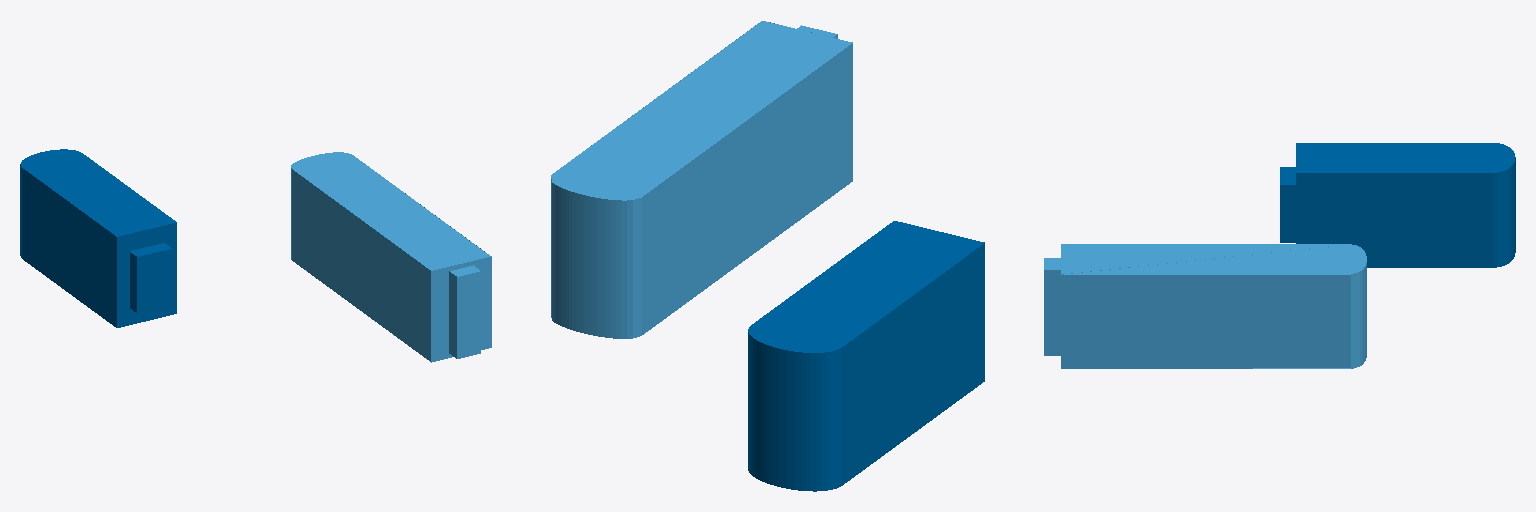
URDF robot description (2v2_65.35_50.50_1.1_73):
<?xml version="1.0" ?>
<robot name="2v2_65.35_50.50_1.1_73">

    <link name="palm">
        <visual>
            <origin rpy="0 0 0" xyz="0 0 0"/>
            <geometry>
                <mesh filename="obj_files/palm.obj" scale="1 1 1"/>
            </geometry>
        </visual>
        <collision>
            <geometry>
                <mesh filename="obj_files/palm_collision.obj" scale="1 1 1"/>
            </geometry>
        </collision>
    </link>

    <link name="finger0_segment0">
        <visual>
            <origin rpy="0 0 0" xyz="0 0 0"/>
            <geometry>
                <mesh filename="obj_files/finger0_segment0.obj" scale="1 1 1"/>
            </geometry>
        </visual>
        <collision>
            <geometry>
                <mesh filename="obj_files/finger0_segment0_collision.obj" scale="1 1 1"/>
            </geometry>
        </collision>
    </link>

    <joint name="finger0_segment0_joint" type="revolute">
        <parent link="palm"/>
        <child link="finger0_segment0"/>
        <origin rpy="0 0 0" xyz="0.03675 0 0.0"/>
        <axis xyz="0 0 1"/>
        <limit effort="1000.0" lower="-3.14" upper="3.14" velocity="0.5"/>
    </joint>

    <link name="finger0_segment1">
        <visual>
            <origin rpy="0 0 0" xyz="0 0 0"/>
            <geometry>
                <mesh filename="obj_files/finger0_segment1.obj" scale="1 1 1"/>
            </geometry>
        </visual>
        <collision>
            <geometry>
                <mesh filename="obj_files/finger0_segment1_collision.obj" scale="1 1 1"/>
            </geometry>
        </collision>
    </link>

    <joint name="finger0_segment1_joint" type="revolute">
        <parent link="finger0_segment0"/>
        <child link="finger0_segment1"/>
        <origin rpy="0 0 0" xyz="0 0.0936 0"/>
        <axis xyz="0 0 1"/>
        <limit effort="1000.0" lower="-3.14" upper="3.14" velocity="0.5"/>
    </joint>

    <link name="finger1_segment0">
        <visual>
            <origin rpy="0 0 0" xyz="0 0 0"/>
            <geometry>
                <mesh filename="obj_files/finger1_segment0.obj" scale="1 1 1"/>
            </geometry>
        </visual>
        <collision>
            <geometry>
                <mesh filename="obj_files/finger1_segment0_collision.obj" scale="1 1 1"/>
            </geometry>
        </collision>
    </link>

    <joint name="finger1_segment0_joint" type="revolute">
        <parent link="palm"/>
        <child link="finger1_segment0"/>
        <origin rpy="0 0 0" xyz="-0.03675 0 4.500576986866523e-18"/>
        <axis xyz="0 0 1"/>
        <limit effort="1000.0" lower="-3.14" upper="3.14" velocity="0.5"/>
    </joint>

    <link name="finger1_segment1">
        <visual>
            <origin rpy="0 0 0" xyz="0 0 0"/>
            <geometry>
                <mesh filename="obj_files/finger1_segment1.obj" scale="1 1 1"/>
            </geometry>
        </visual>
        <collision>
            <geometry>
                <mesh filename="obj_files/finger1_segment1_collision.obj" scale="1 1 1"/>
            </geometry>
        </collision>
    </link>

    <joint name="finger1_segment1_joint" type="revolute">
        <parent link="finger1_segment0"/>
        <child link="finger1_segment1"/>
        <origin rpy="0 0 0" xyz="0 0.072 0"/>
        <axis xyz="0 0 1"/>
        <limit effort="1000.0" lower="-3.14" upper="3.14" velocity="0.5"/>
    </joint>

</robot>

--- Render facts (derived) ---
3 views of the same robot in one strip: view 1: azimuth 30°, elevation 25°; view 2: azimuth 150°, elevation 25°; view 3: azimuth 270°, elevation 25° (orthographic).
Robot: 2v2_65.35_50.50_1.1_73 — 5 links, 4 joints (4 revolute); root link palm; default pose: all joints at 0.
Links seen in each view (by area): view 1: finger0_segment0, finger1_segment1; view 2: finger0_segment0, finger1_segment1; view 3: finger0_segment0, finger1_segment1.
Link boxes in pixels (x1,y1,x2,y2): finger0_segment0: [291, 152, 491, 362]; finger1_segment1: [20, 149, 176, 327]; finger0_segment0: [551, 21, 852, 338]; finger1_segment1: [748, 221, 984, 491]; finger0_segment0: [1044, 244, 1366, 368]; finger1_segment1: [1280, 143, 1515, 267].
Size in the robot's own frame: 0.0955 by 0.144 by 0.032 metres.
2 mesh visuals loaded from 5 distinct referenced files (2 OBJ); not drawn: 3 (reference not matched to a file when rendering).